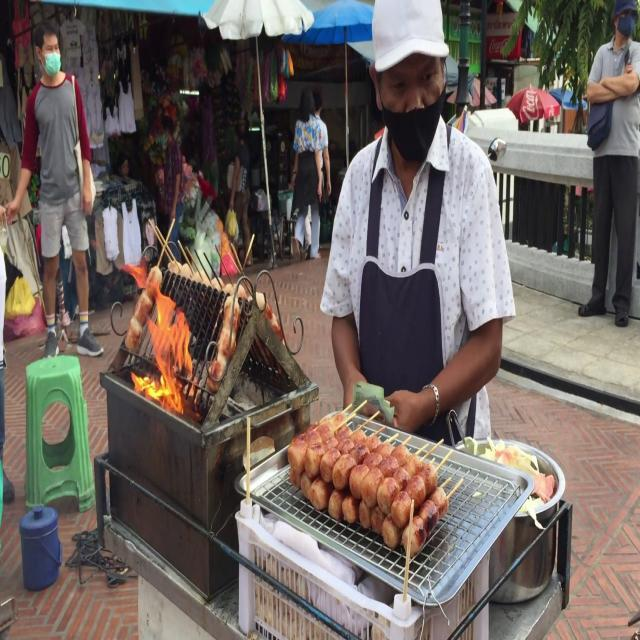Fire: (126, 278, 201, 420)
